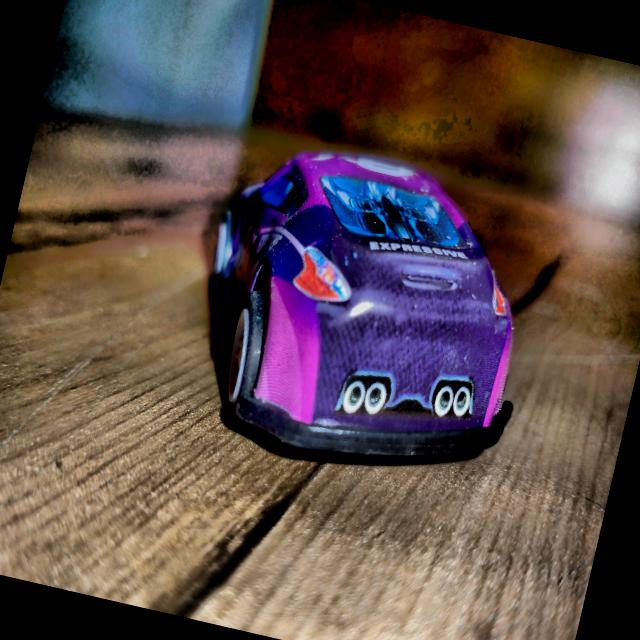Car: (175, 128, 559, 493)
